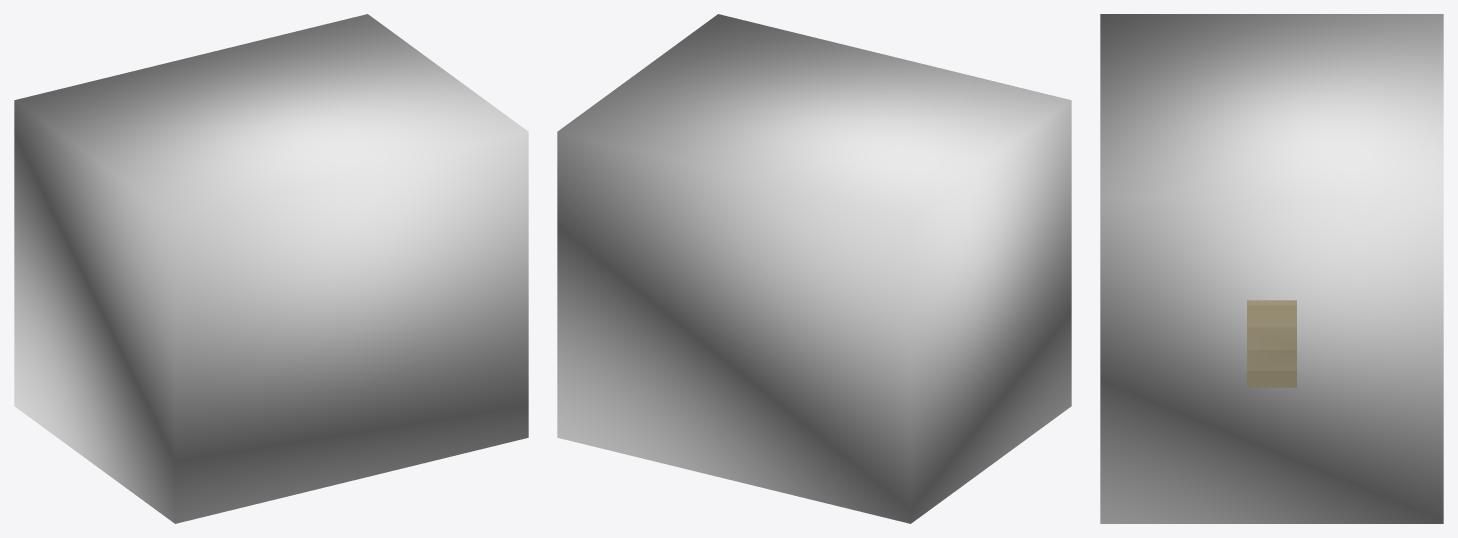
Rendered from taza_esmaltada.glb.
The picture shows the model from 3 angles, left to right: view 1: azimuth 30°, elevation 25°; view 2: azimuth 150°, elevation 25°; view 3: azimuth 270°, elevation 25°; orthographic projection. The views are drawn at different scales.
Visible parts, largest first — view 1: taza-colcaja; view 2: taza-colcaja; view 3: taza-colcaja, taza.
Boxes of the visible parts, x1,y1,x2,y2 form: taza-colcaja: (14, 14, 528, 523); taza-colcaja: (557, 14, 1071, 523); taza-colcaja: (1100, 14, 1443, 523); taza: (1247, 300, 1296, 387).
Bounding box in the file's own units: 0.1047 × 0.086 × 0.082.
